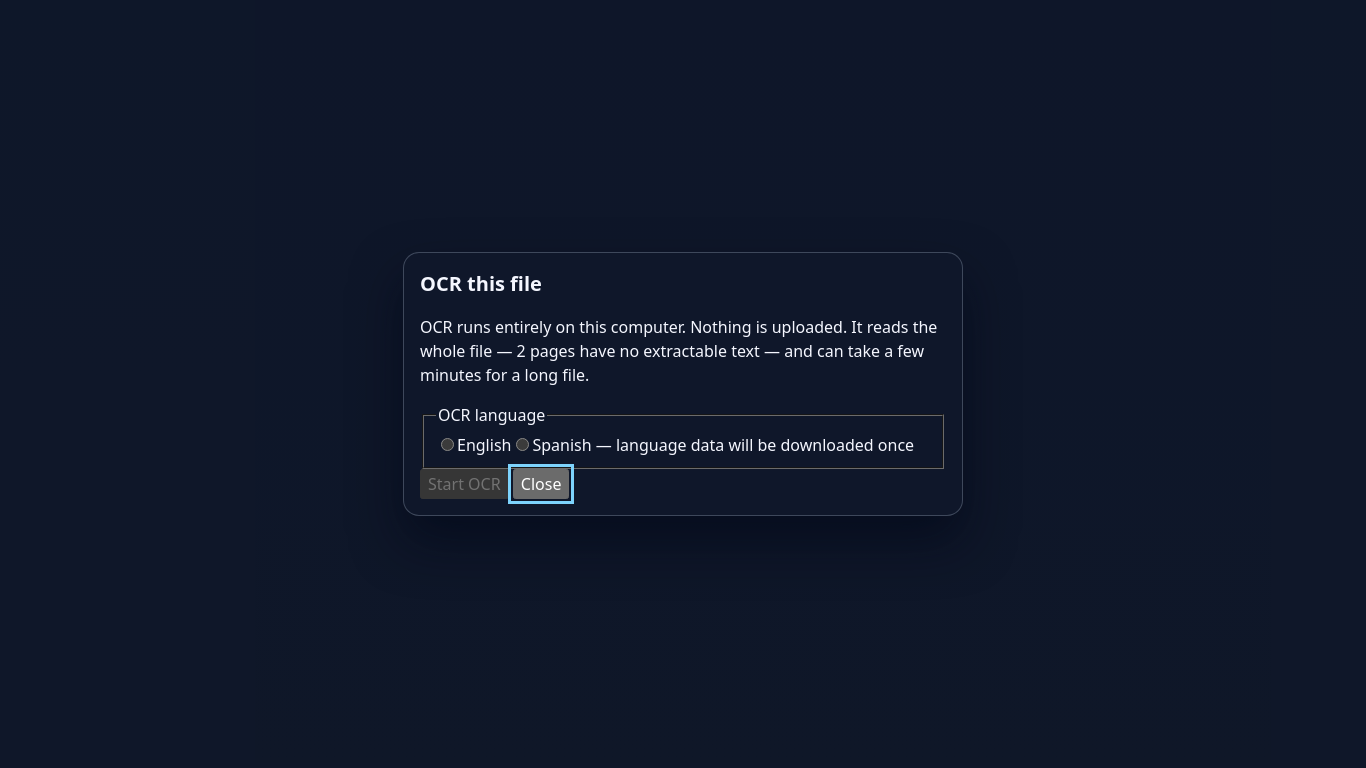
OCR dialog › reports an engine failure instead of hanging
Click the radio button labelled "English".
click(448, 444)  # box [441,438,454,451]
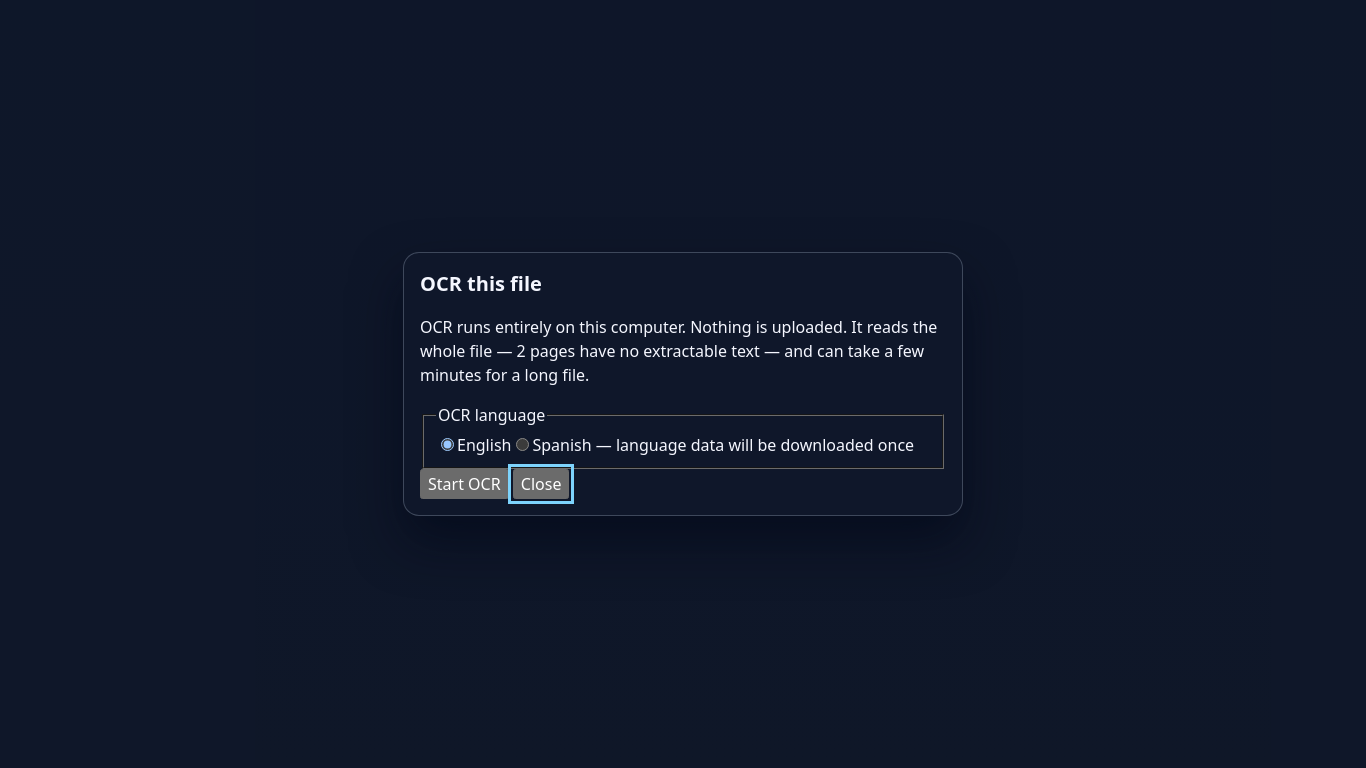
Click the button "Start OCR".
click(464, 484)  # box [420,469,509,499]
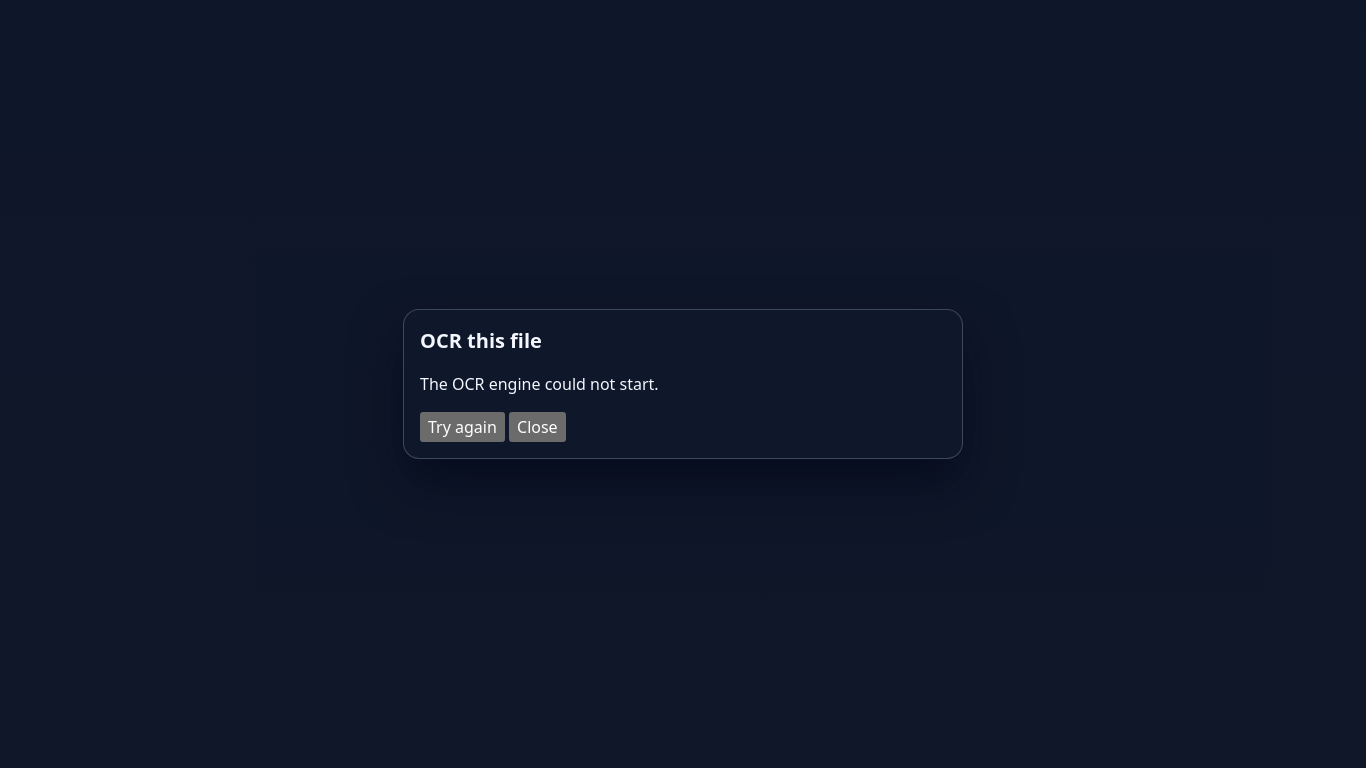
Expected: the message reads "The OCR engine could not start.", [420,373,659,395]
